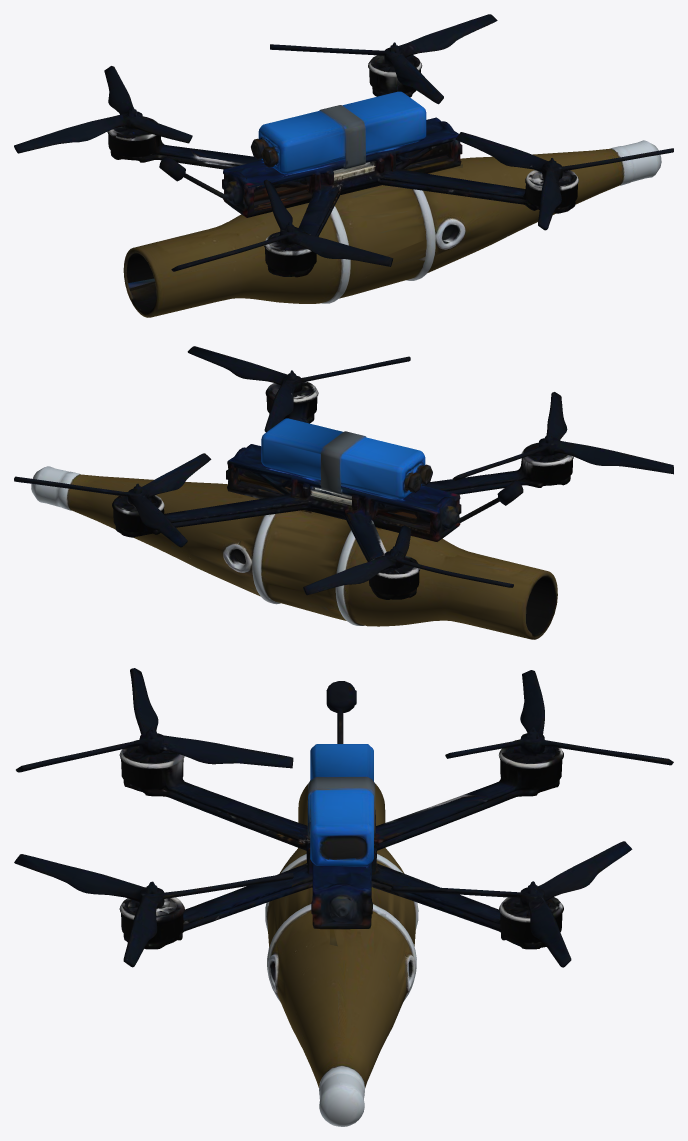
Rendered from fpv_drone.glb.
The picture shows the model from 3 angles, top to bottom: view 1: azimuth 30°, elevation 25°; view 2: azimuth 150°, elevation 25°; view 3: azimuth 270°, elevation 25°; orthographic projection. The views are drawn at different scales.
Visible parts, largest first — view 1: material; view 2: material; view 3: material.
Part boxes in pixels (<box>): material: <box>14,14,673,317</box>; material: <box>14,346,673,639</box>; material: <box>14,668,673,1126</box>.
Bounding box in the file's own units: 1.05 × 0.3154 × 0.8767.
1 material, 1 textured.
